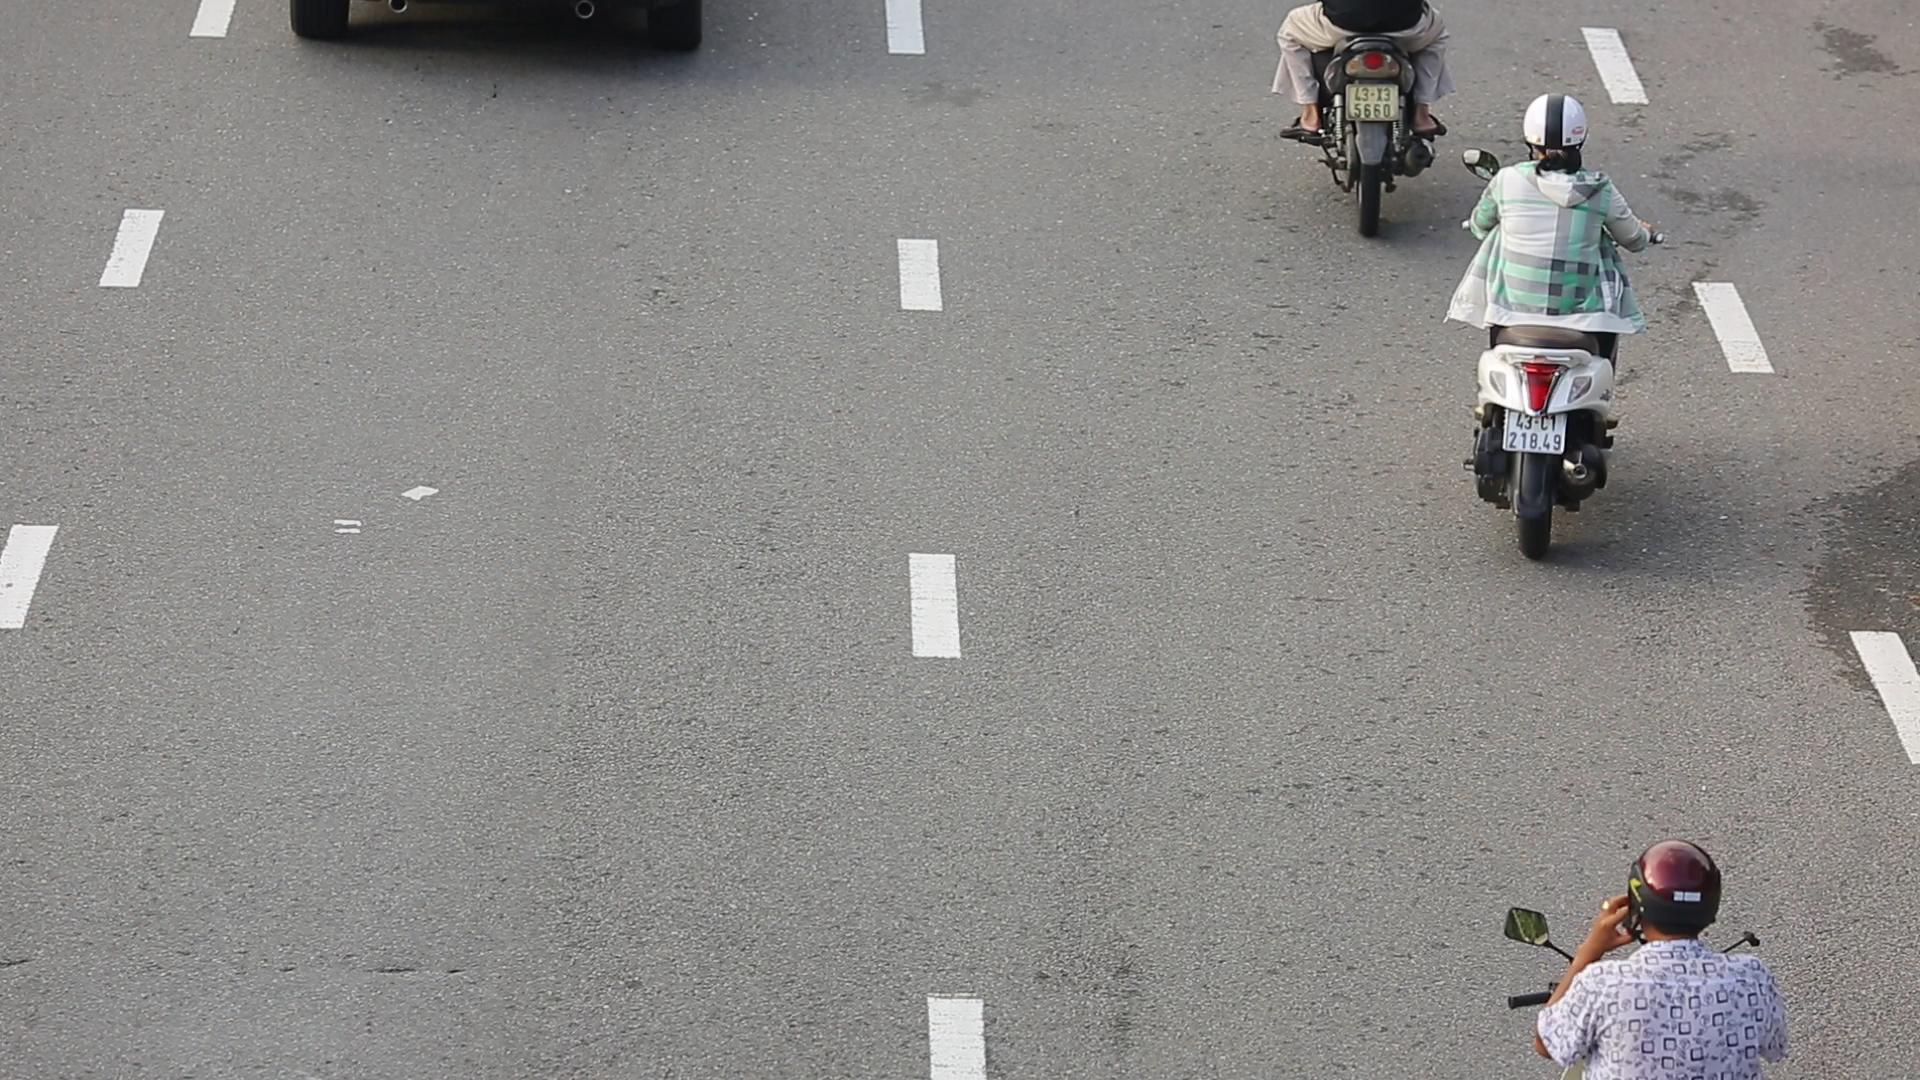motobike: (1455, 80, 1683, 591)
